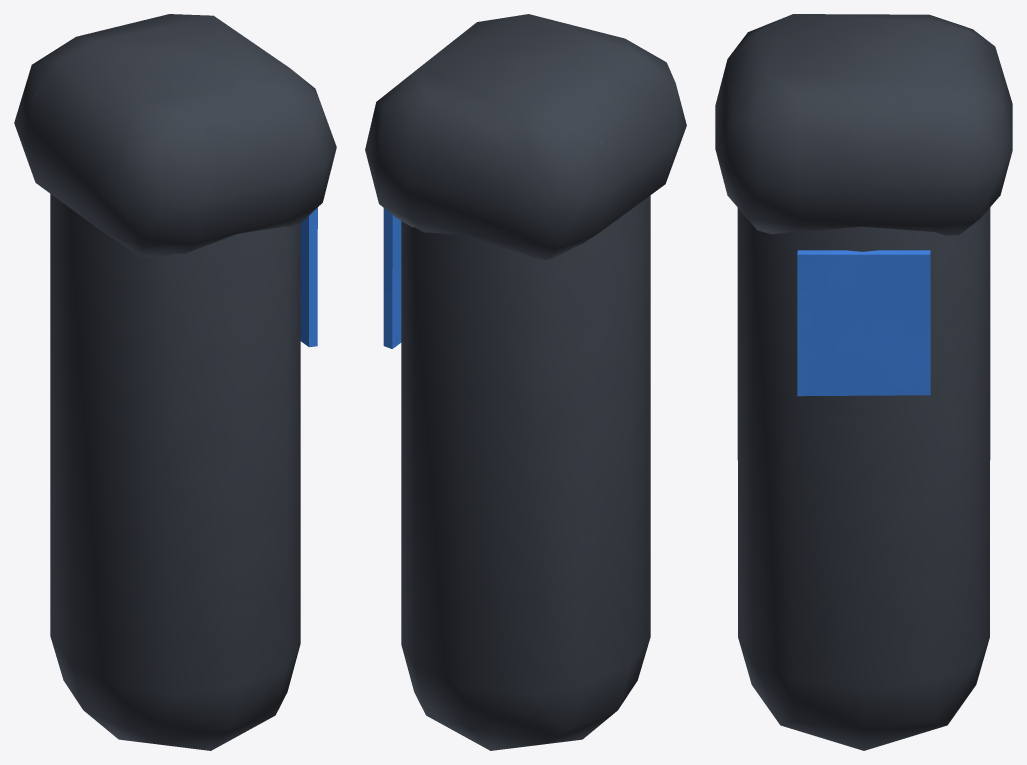
Rendered from SM_OperatorBUpperArm_LOD1.fbx.
3 views of the same model, side by side, from view 1: azimuth 30°, elevation 25°; view 2: azimuth 150°, elevation 25°; view 3: azimuth 270°, elevation 25° (orthographic).
Parts seen in each view (by area): view 1: SM_OperatorBUpperArm_LOD1; view 2: SM_OperatorBUpperArm_LOD1; view 3: SM_OperatorBUpperArm_LOD1.
Part boxes in pixels (box(x1,y1,x2,y2)): SM_OperatorBUpperArm_LOD1: box(14, 14, 336, 750); SM_OperatorBUpperArm_LOD1: box(365, 14, 686, 750); SM_OperatorBUpperArm_LOD1: box(715, 14, 1012, 750).
Size of the model in its own units: 0.121 by 0.3356 by 0.131.
1 material, 1 textured.
